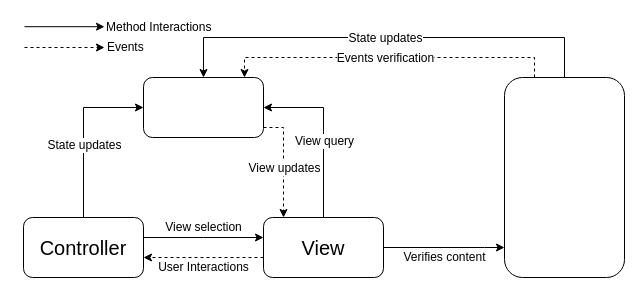
Some shapes in this 642 by 295 pixel diagram are drawn without their labels. The shapes that lost their labels are listed below. From the top down, each one's centre as x and y in pixels, then its label:
At (203,107): "Model".
At (564,177): "Unit Testing".
